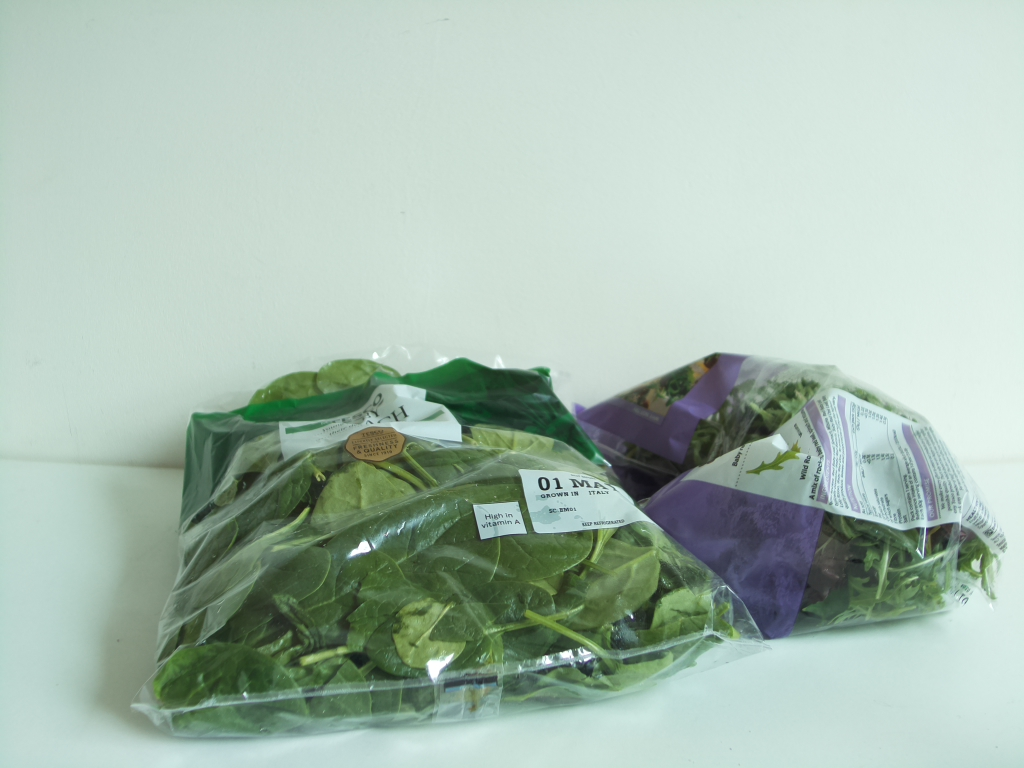salad: (138, 345, 754, 735), (580, 352, 1010, 638)
